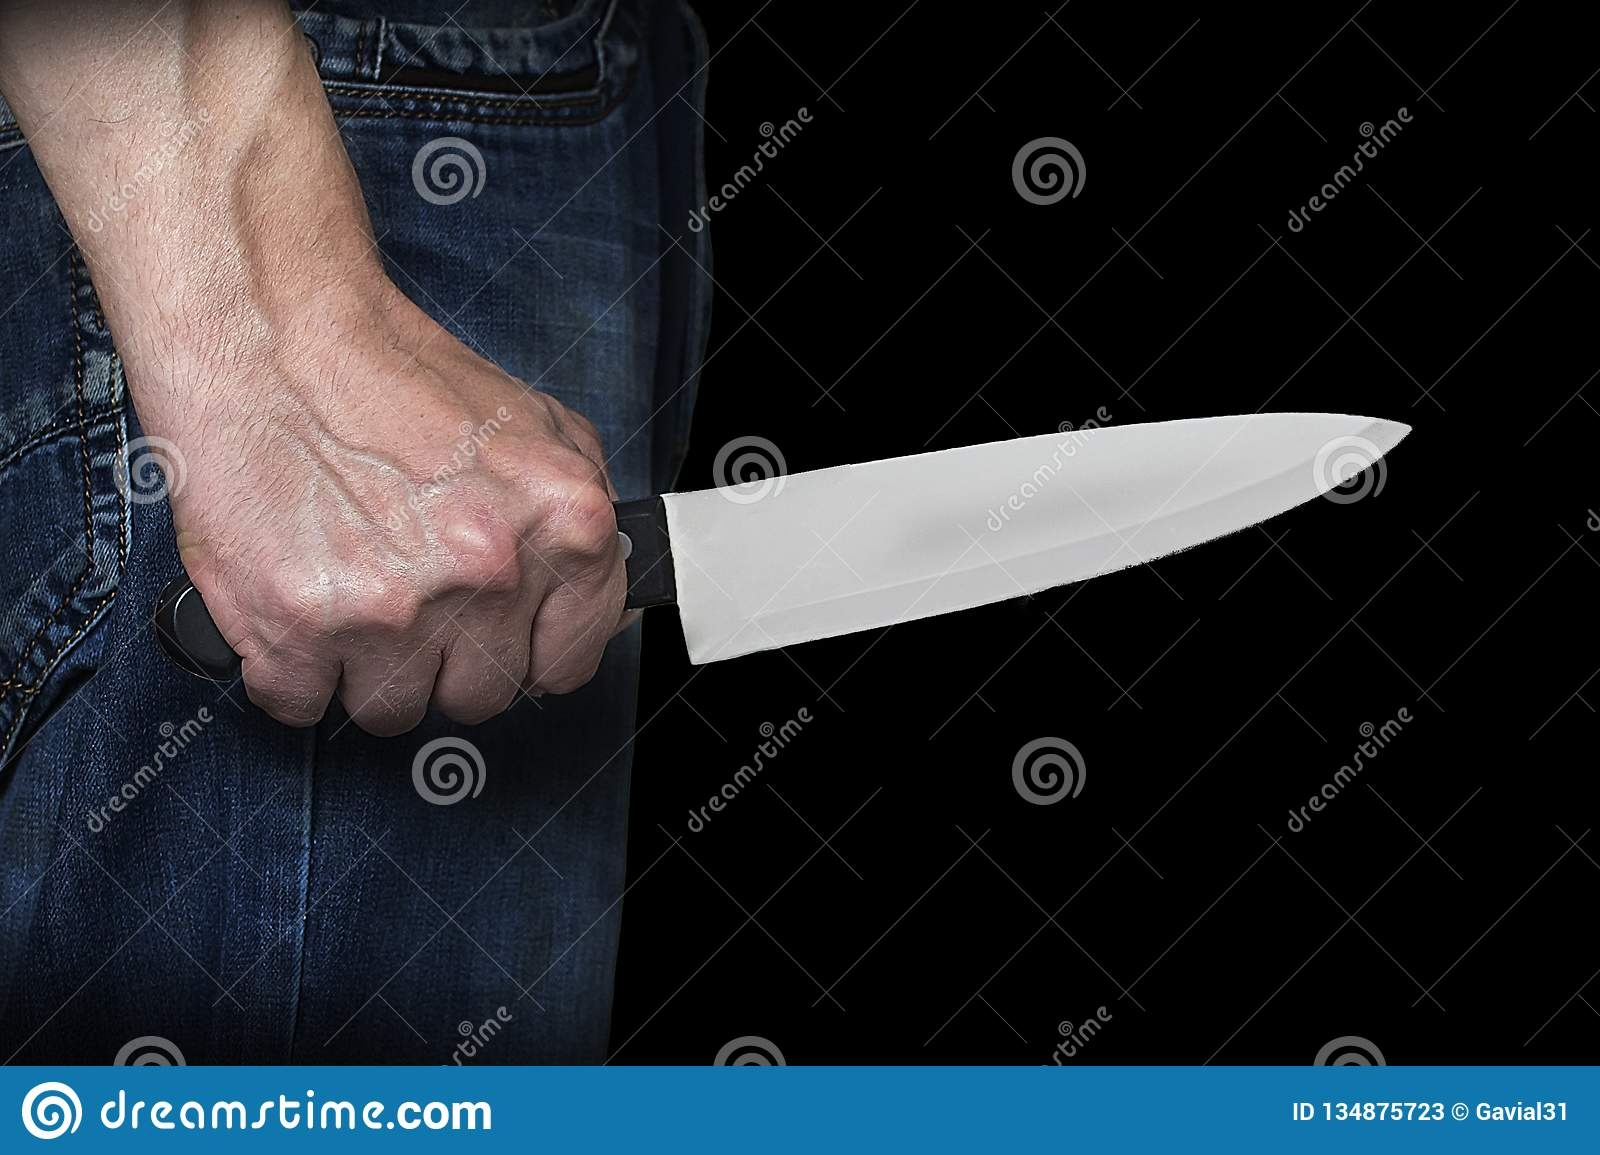knife: (166, 406, 1414, 697)
